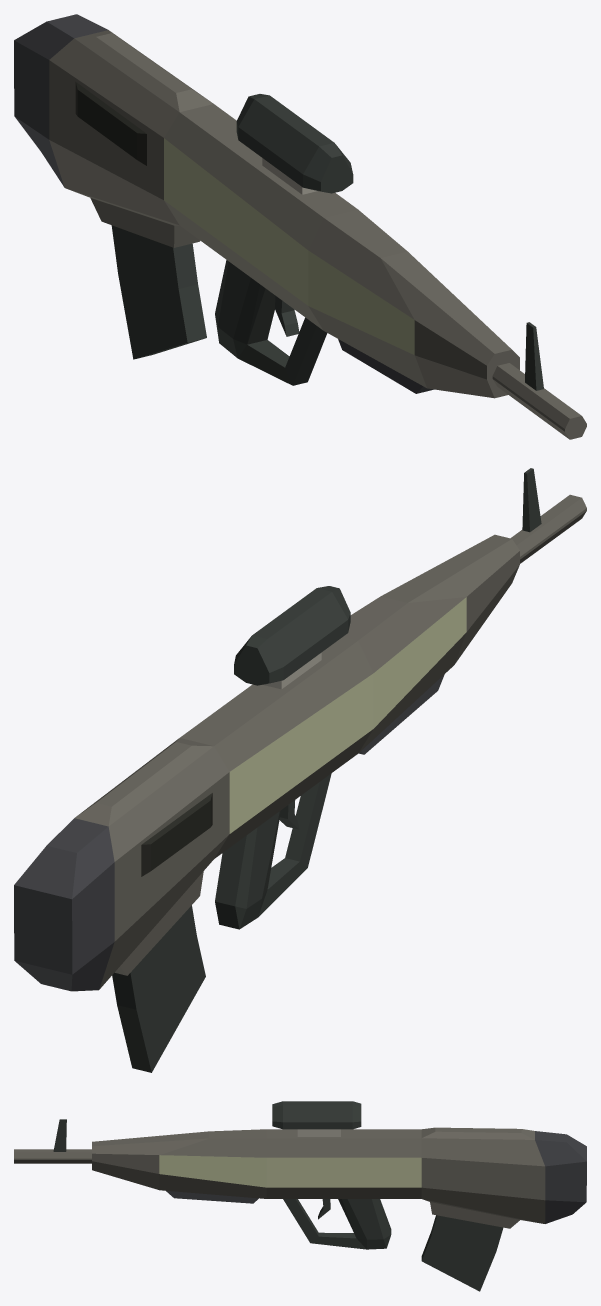
File: lp_bullpup(Colour).fbx
The picture shows the model from 3 angles, top to bottom: view 1: azimuth 30°, elevation 25°; view 2: azimuth 150°, elevation 25°; view 3: azimuth 270°, elevation 25°; orthographic projection. The views are drawn at different scales.
Parts seen in each view (by area): view 1: Cube, Cube.002, Cube.001, Cube.006, Cube.005, Cube.004, Cube.007; view 2: Cube, Cube.002, Cube.001, Cube.006, Cube.005, Cube.004, Cube.007; view 3: Cube, Cube.002, Cube.001, Cube.006, Cube.007, Cube.004, Cube.003.
Boxes of the visible parts, box(x1,y1,x2,y2) form: Cube: box(14, 14, 586, 439); Cube.002: box(111, 225, 206, 359); Cube.001: box(215, 260, 327, 385); Cube.006: box(236, 94, 353, 193); Cube.005: box(75, 82, 146, 165); Cube.004: box(525, 322, 543, 390); Cube.007: box(338, 339, 433, 393); Cube: box(14, 494, 586, 991); Cube.002: box(112, 905, 205, 1072); Cube.001: box(215, 773, 331, 929); Cube.006: box(234, 586, 350, 685); Cube.005: box(141, 793, 212, 876); Cube.004: box(522, 468, 541, 532); Cube.007: box(358, 674, 444, 754); Cube: box(14, 1127, 586, 1228); Cube.002: box(421, 1215, 503, 1291); Cube.001: box(283, 1199, 391, 1249); Cube.006: box(272, 1101, 361, 1129); Cube.007: box(166, 1190, 258, 1203); Cube.004: box(53, 1119, 66, 1151); Cube.003: box(297, 1129, 340, 1136).
Bounding box in the file's own units: 12.38 × 59.11 × 165.
